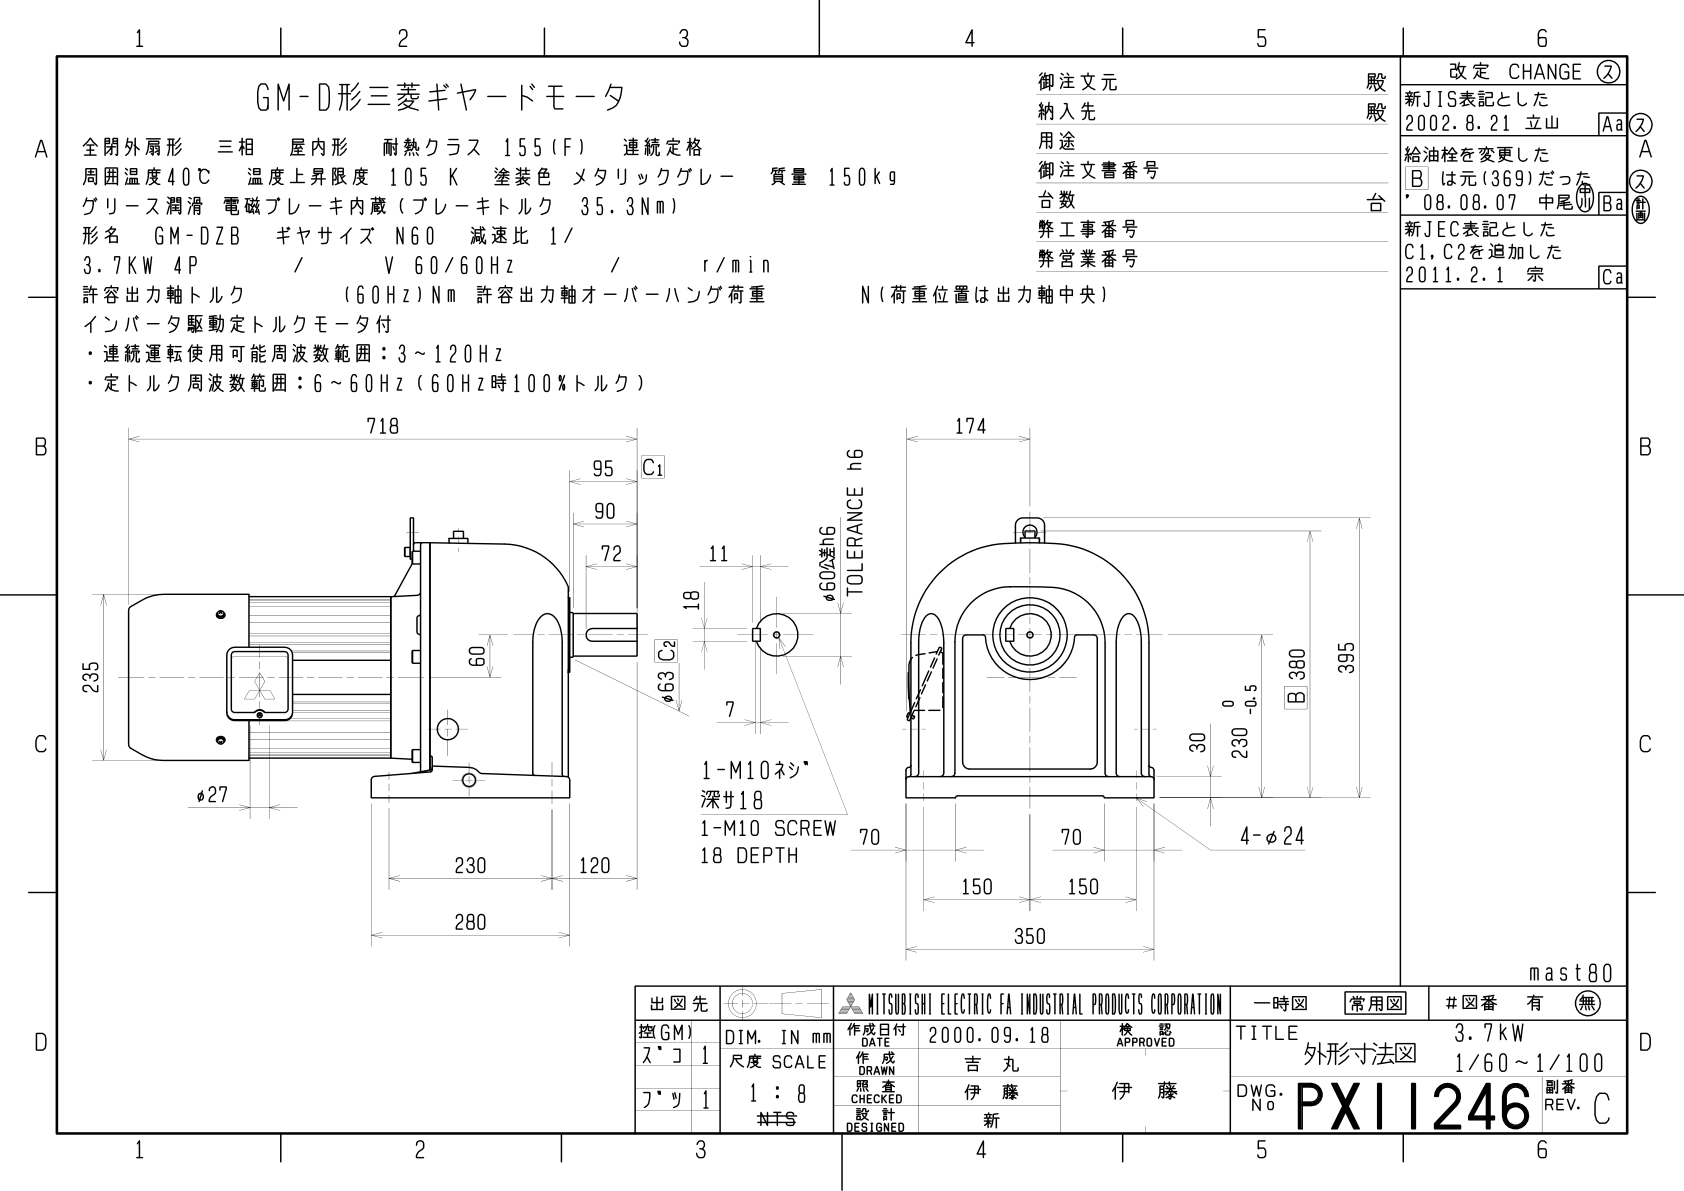GM_D_インバータ屋内_三相_脚: (1, 1, 1672, 1176)
